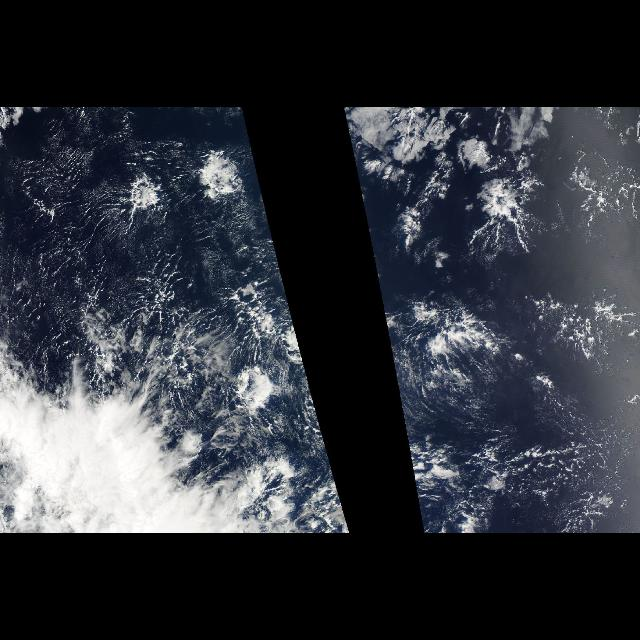Flower: (21, 130, 315, 404), (348, 130, 634, 404)
Gravel: (404, 384, 620, 534), (49, 261, 244, 393)
